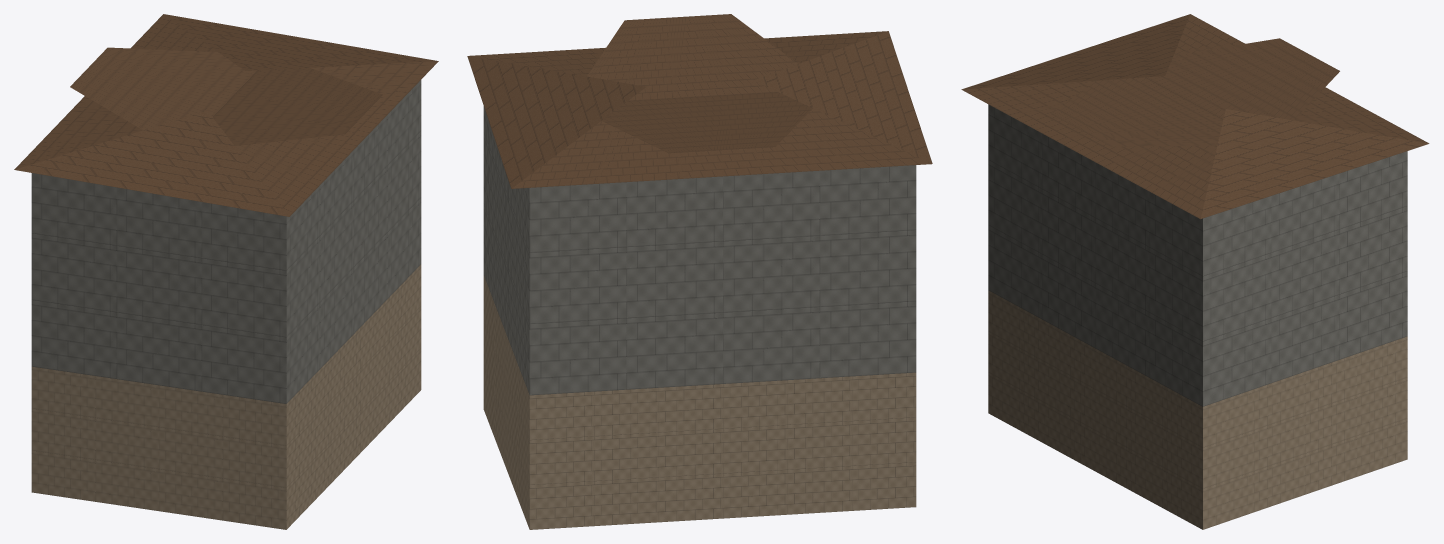
File: bld_c39_36_285.gltf
3 views of the same model, side by side, from view 1: azimuth 30°, elevation 25°; view 2: azimuth 150°, elevation 25°; view 3: azimuth 270°, elevation 25° (orthographic). The views are drawn at different scales.
Parts seen in each view (by area): view 1: bld_c39_36_285; view 2: bld_c39_36_285; view 3: bld_c39_36_285.
Part boxes in pixels (x1,y1,x2,y2): bld_c39_36_285: [14, 14, 438, 529]; bld_c39_36_285: [467, 14, 932, 529]; bld_c39_36_285: [961, 14, 1429, 529].
Bounding box in the file's own units: 18.24 × 14.2 × 17.6.
Materials: 3 (3 with a texture image).
